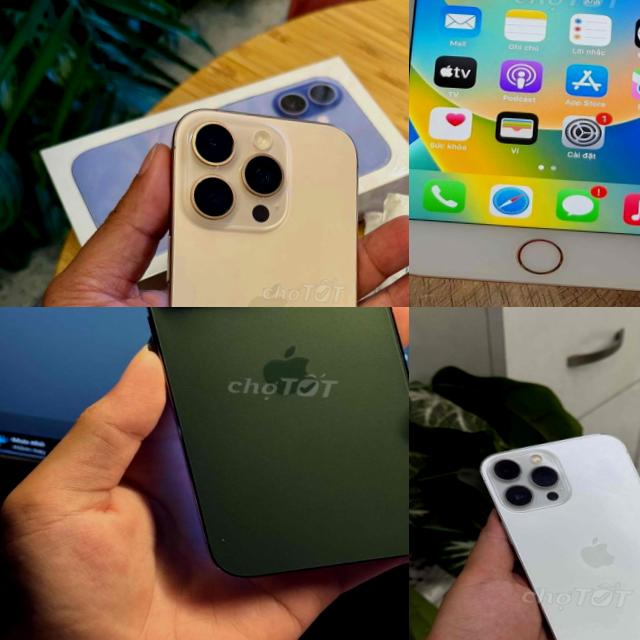gen_12_13: (104, 307, 409, 586), (466, 424, 640, 640)
gen_16: (139, 85, 380, 307)
gen_7_8: (409, 0, 640, 298)
